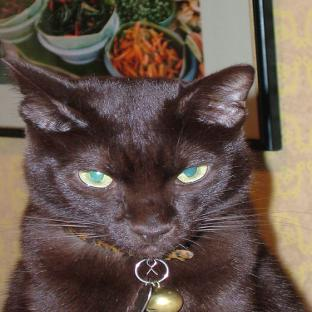Animal: (2, 59, 307, 311)
